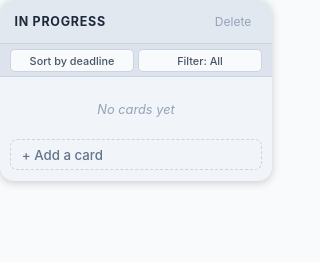
Test case: ListColumn — delete list (T7) › shows ErrorBanner on deleteList failure (EC8)
Click the button with aria-label "delete list" at [233, 22], box [208,13,258,31]
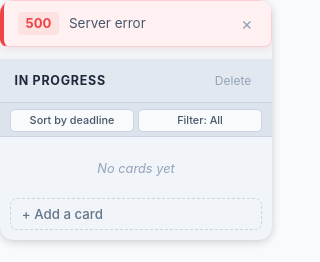
Check: the message "500 Server error ×" is shown, box [0,0,272,47]
Check: the text "500" is shown, box [18,12,59,35]
